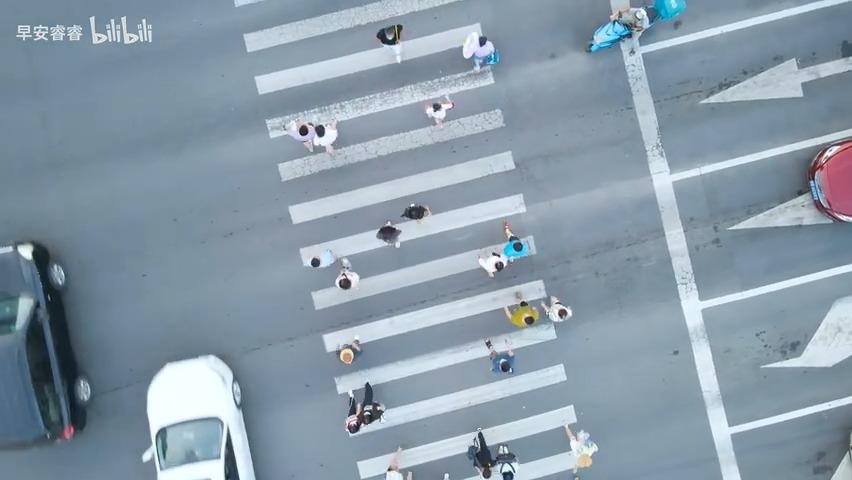Civilian: (344, 380, 386, 434), (563, 422, 598, 479), (462, 31, 497, 73), (470, 428, 497, 478), (282, 117, 315, 153), (308, 117, 338, 156), (484, 337, 515, 373), (376, 23, 403, 64), (609, 6, 650, 32), (424, 95, 455, 129), (503, 300, 538, 327), (385, 446, 413, 479), (540, 295, 572, 322), (495, 443, 519, 479), (334, 257, 359, 290), (335, 335, 362, 364), (477, 251, 505, 278), (376, 219, 401, 247), (503, 219, 524, 252), (400, 202, 431, 223), (309, 248, 337, 267)
